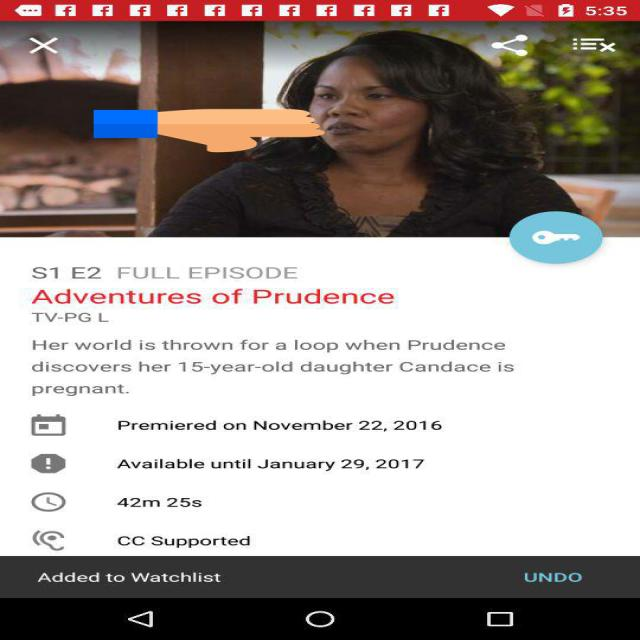obstruction: (93, 108, 324, 153)
